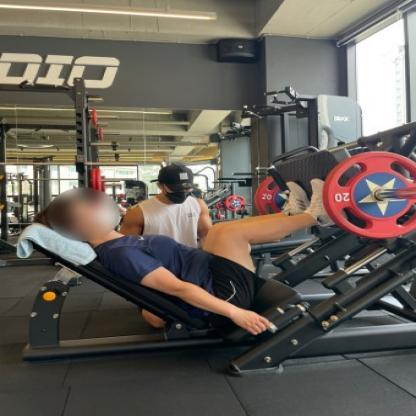leg press: (11, 114, 416, 379)
